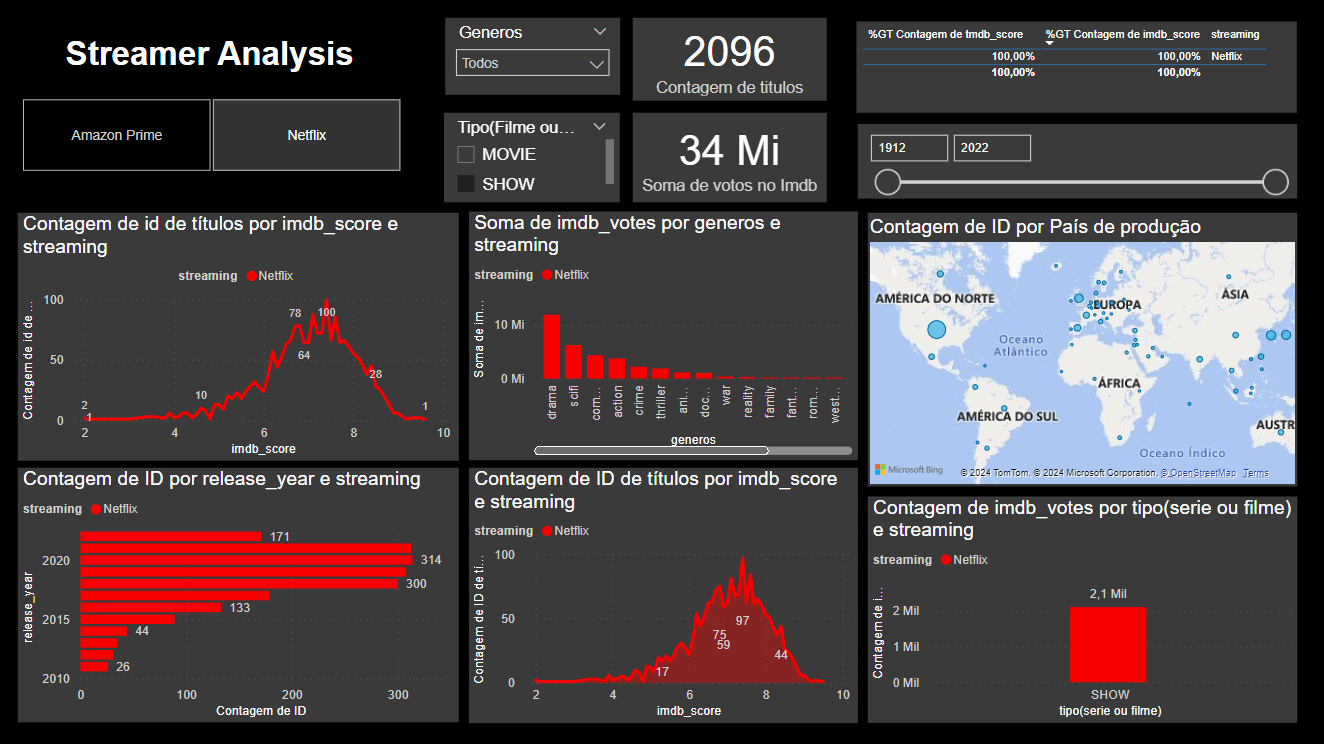

The dashboard page shown, as its layout file describes it:
{"tool":"powerbi","page":{"name":"Página 1","canvas":[1280,720],"ordinal":0},"visuals":[{"type":"lineChart","fields":{"Y":["CountNonNull(amazon_netflix_limpo.ID)"],"Category":["amazon_netflix_limpo.imdb_score"],"Series":["amazon_netflix_limpo.streaming"]},"box":[18.2,206.4,425.5,239.1],"z":0},{"type":"stackedAreaChart","fields":{"Category":["amazon_netflix_limpo.imdb_score"],"Y":["CountNonNull(amazon_netflix_limpo.ID)"],"Series":["amazon_netflix_limpo.streaming"]},"box":[453.6,452.7,375.5,246.4],"z":1000},{"type":"slicer","fields":{"Values":["amazon_netflix_limpo.streaming"]},"box":[0,92.9,408.6,77.1],"z":2000},{"type":"tableEx","fields":{"Values":["amazon_netflix_limpo.tmdb_score","amazon_netflix_limpo.imdb_score","amazon_netflix_limpo.streaming"]},"box":[827.8,22.2,424.4,87.8],"z":3000},{"type":"clusteredColumnChart","fields":{"Category":["amazon_netflix_limpo.genres.1"],"Series":["amazon_netflix_limpo.streaming"],"Y":["Sum(amazon_netflix_limpo.imdb_votes)"]},"box":[453.8,205,375,240],"z":4000},{"type":"clusteredBarChart","fields":{"Category":["amazon_netflix_limpo.release_year"],"Y":["Count(amazon_netflix_limpo.ID)"],"Series":["amazon_netflix_limpo.streaming"]},"box":[18.7,452.2,424.8,246.2],"z":5000},{"type":"slicer","fields":{"Values":["amazon_netflix_limpo.genres.1"]},"box":[430,18.6,168.6,74.3],"z":6000},{"type":"slicer","fields":{"Values":["amazon_netflix_limpo.release_year"]},"box":[828.2,120,423.6,71.8],"z":7000},{"type":"card","fields":{"Values":["Count(amazon_netflix_limpo.title)"]},"box":[610.9,18.2,187.3,80],"z":8000},{"type":"card","fields":{"Values":["Sum(amazon_netflix_limpo.imdb_votes)"]},"box":[610.9,110,187.3,86.4],"z":9000},{"type":"clusteredColumnChart","fields":{"Category":["amazon_netflix_limpo.type"],"Series":["amazon_netflix_limpo.streaming"],"Y":["CountNonNull(amazon_netflix_limpo.imdb_votes)"]},"box":[838,480,414,218],"z":10000},{"type":"map","fields":{"Category":["amazon_netflix_limpo.País de produção"],"Size":["CountNonNull(amazon_netflix_limpo.ID)"]},"box":[838,206,414,264],"z":11000},{"type":"textbox","box":[48.7,30,310,53.3],"z":12000},{"type":"slicer","fields":{"Values":["amazon_netflix_limpo.type"]},"box":[429.2,110,169.4,86],"z":13000}]}

Visuals, with their boxes in screenshot pixels (x1, y1, x2, y2), scaled from the page's 1280x720 canvas onto the 1324x744 screenshot:
lineChart - CountNonNull(amazon_netflix_limpo.ID) x amazon_netflix_limpo.imdb_score: left=19, top=213, right=459, bottom=460
stackedAreaChart - amazon_netflix_limpo.imdb_score x CountNonNull(amazon_netflix_limpo.ID): left=469, top=468, right=858, bottom=722
slicer - amazon_netflix_limpo.streaming: left=0, top=96, right=423, bottom=176
tableEx - amazon_netflix_limpo.tmdb_score x amazon_netflix_limpo.imdb_score: left=856, top=23, right=1295, bottom=114
clusteredColumnChart - amazon_netflix_limpo.genres.1 x amazon_netflix_limpo.streaming: left=469, top=212, right=857, bottom=460
clusteredBarChart - amazon_netflix_limpo.release_year x Count(amazon_netflix_limpo.ID): left=19, top=467, right=459, bottom=722
slicer - amazon_netflix_limpo.genres.1: left=445, top=19, right=619, bottom=96
slicer - amazon_netflix_limpo.release_year: left=857, top=124, right=1295, bottom=198
card - Count(amazon_netflix_limpo.title): left=632, top=19, right=826, bottom=101
card - Sum(amazon_netflix_limpo.imdb_votes): left=632, top=114, right=826, bottom=203
clusteredColumnChart - amazon_netflix_limpo.type x amazon_netflix_limpo.streaming: left=867, top=496, right=1295, bottom=721
map - amazon_netflix_limpo.País de produção x CountNonNull(amazon_netflix_limpo.ID): left=867, top=213, right=1295, bottom=486
textbox: left=50, top=31, right=371, bottom=86
slicer - amazon_netflix_limpo.type: left=444, top=114, right=619, bottom=203
